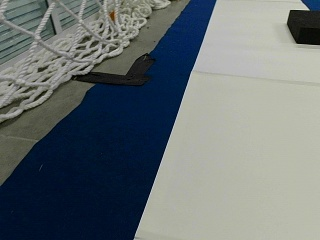block: (286, 8, 319, 43)
